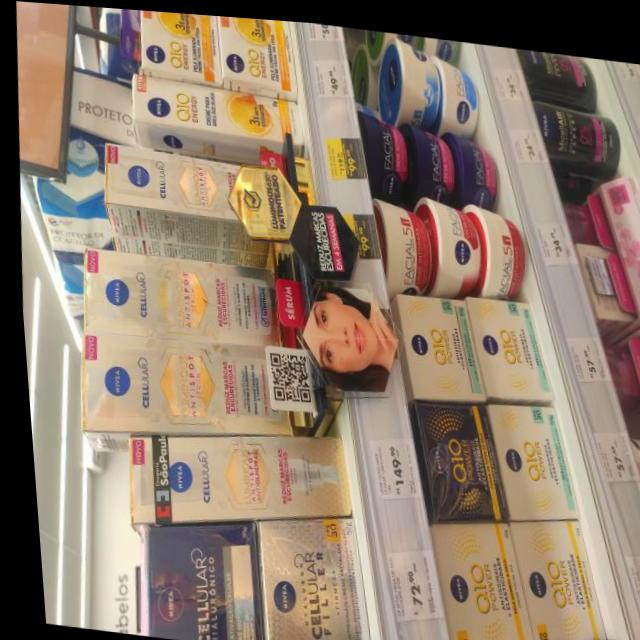qrcode: (263, 348, 308, 401)
